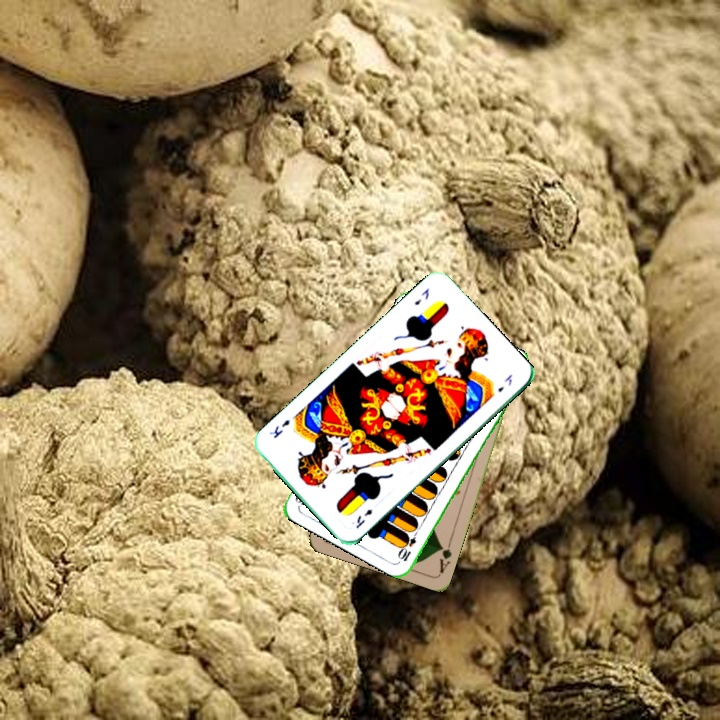E10: (395, 525, 421, 564)
EK: (352, 505, 375, 531), (410, 284, 432, 308)
GA: (435, 536, 454, 576)
